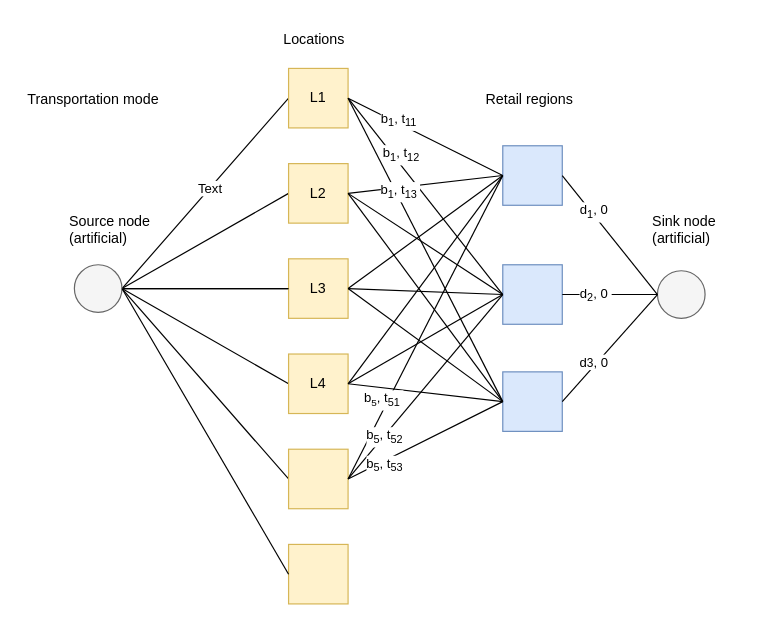
Some shapes in this 760 by 625 pixel diagram are drawn without their labels. Here are the shapes that lost their labels. From the top down, the centre of each, then its label:
(317,478): L5
(317,573): L6
